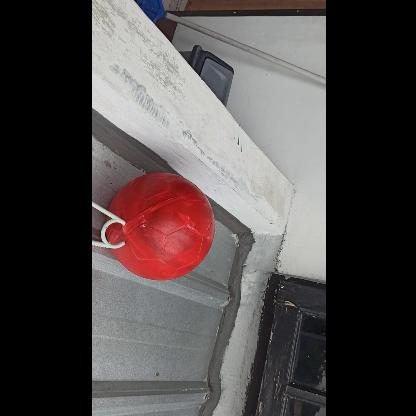red_ball: (106, 174, 214, 284)
